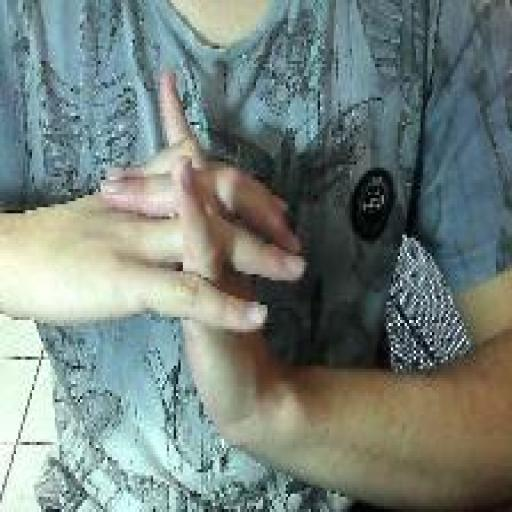Ushi -ox-: (98, 67, 309, 460)
